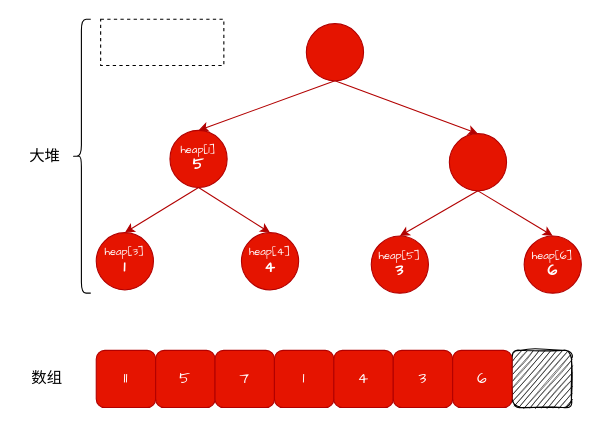
The diagram is 601 pixels wide and 427 high, and some of its shapes have lost their labels. Each missing label, with the centre of its shape:
"heap [0] >= heap [1] heap [0] >= heap [2]" goes at pixel 162 41.
"heap[0] 11" goes at pixel 334 52.
"heap[2] 7" goes at pixel 477 162.
